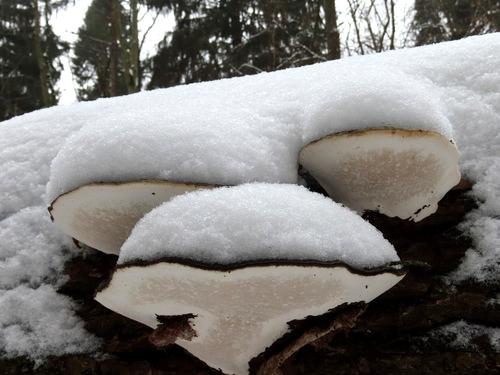Ganoderma - Fruit Body: (82, 262, 408, 370), (297, 122, 464, 221), (49, 178, 239, 256)
